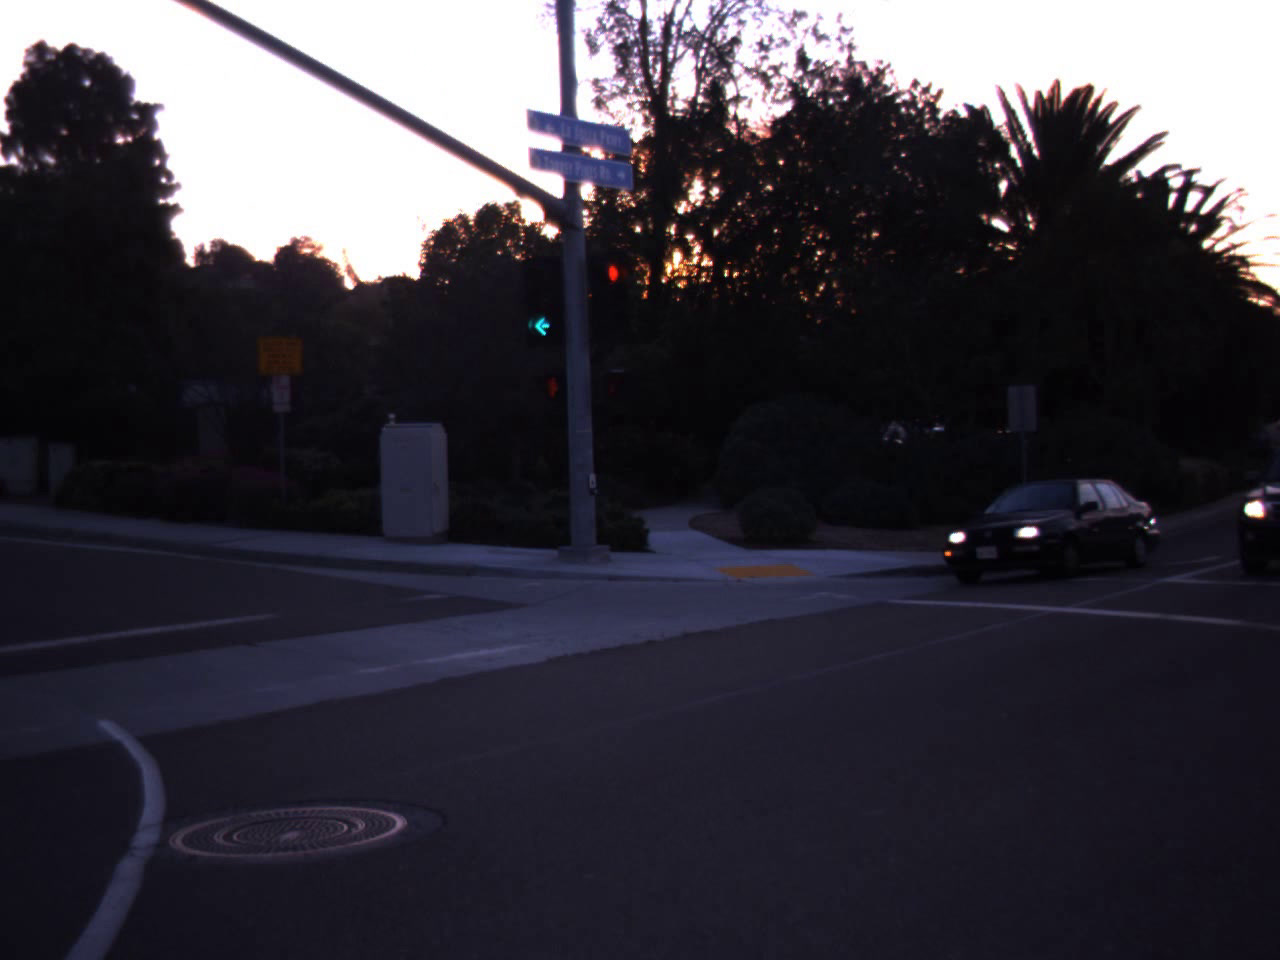go: (512, 242, 572, 347)
